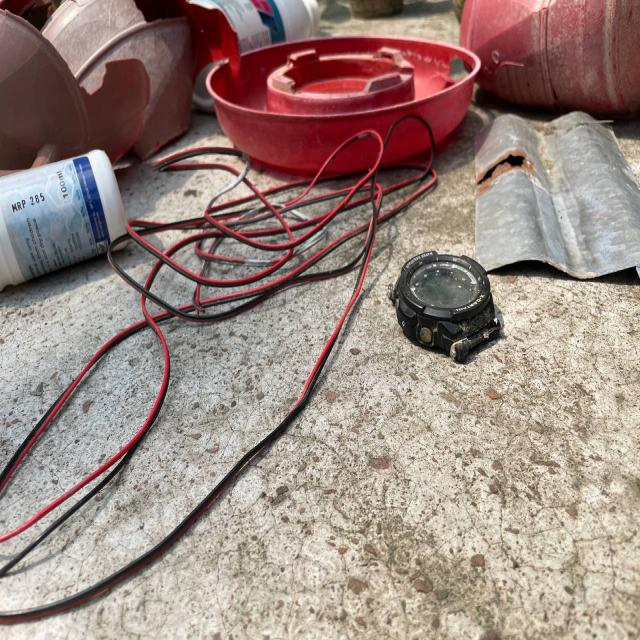Cable: (75, 132, 383, 595)
E-waste: (387, 224, 498, 386)
Metal: (483, 114, 640, 268)
Plastics: (154, 0, 640, 114), (0, 0, 133, 261)
